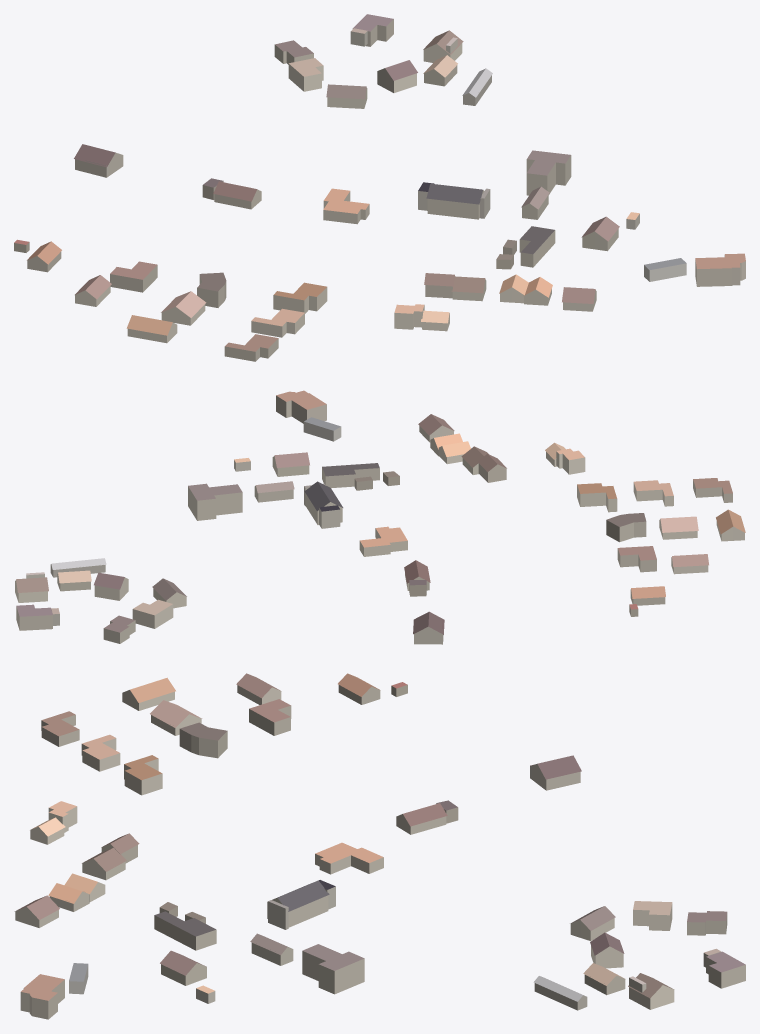
3 renders of one model, top to bottom at view 1: azimuth 30°, elevation 25°; view 2: azimuth 150°, elevation 25°; view 3: azimuth 270°, elevation 25°, orthographic. The views are drawn at different scales.
Parts seen in each view (by area): view 1: tuile; view 2: tuile; view 3: tuile.
Boxes of the visible parts, x1=… form: tuile: x1=14, y1=14, x2=745, y2=361; tuile: x1=15, y1=390, x2=745, y2=644; tuile: x1=14, y1=673, x2=745, y2=1019.
Bounding box in the file's own units: 252 × 21.38 × 262.
